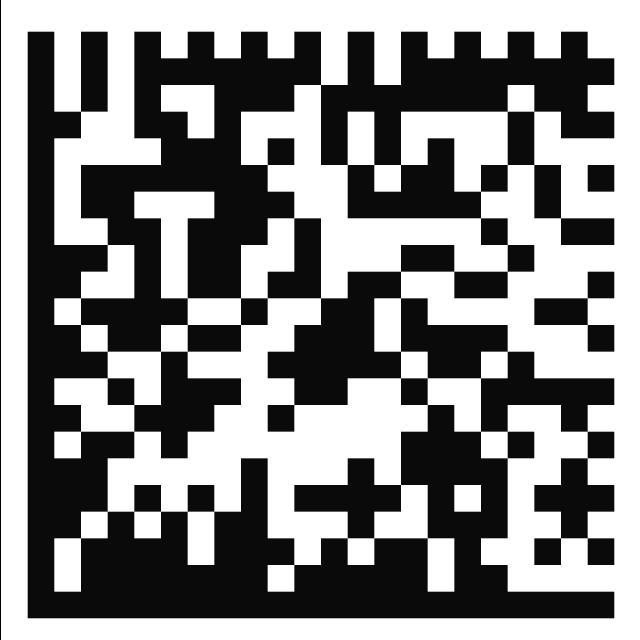Data-Matrix: (15, 15, 624, 630)
